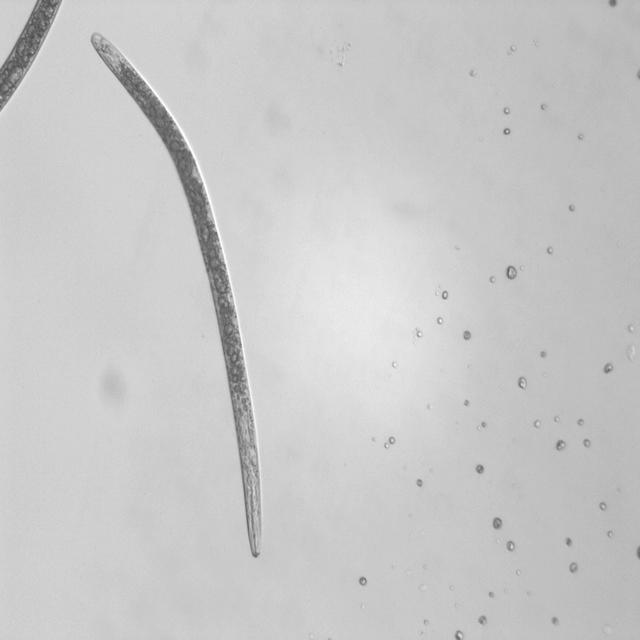Pratylenchus: (85, 24, 270, 576)
